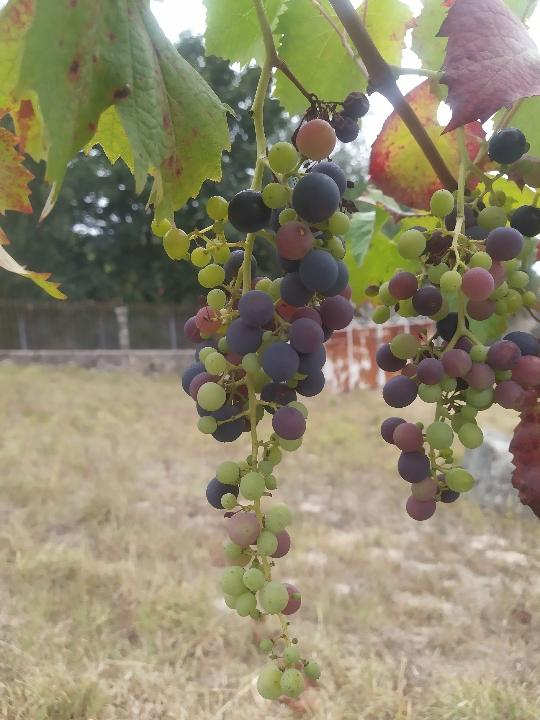grape: (151, 91, 368, 699), (366, 124, 540, 525)
